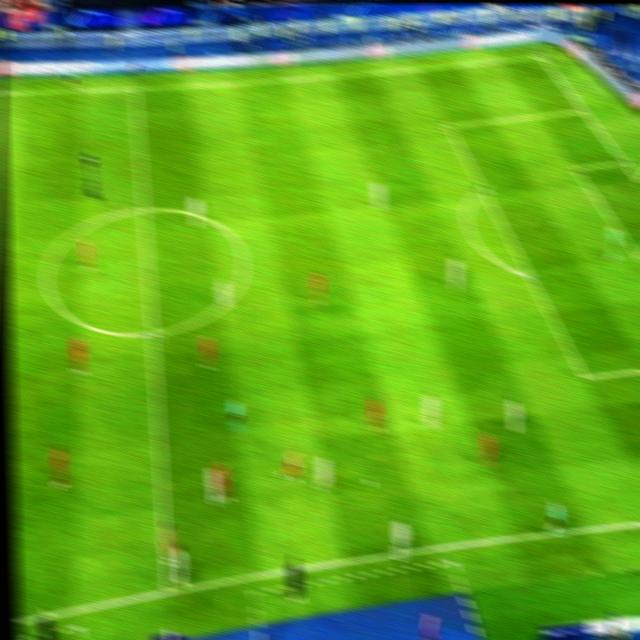bigarea_bottom_inner: (576, 370, 594, 385)
bigarea_top_inner: (440, 119, 458, 132)
bigarea_top_outter: (574, 103, 594, 119)
bottom_arc_area_intersection: (521, 270, 540, 284)
corner: (533, 50, 550, 64)
halfcircle_bottom: (143, 327, 163, 342)
halfcircle_top: (136, 203, 153, 217)
midline_bottom_intersection: (158, 584, 179, 600)
midline_top_intersection: (126, 82, 143, 95)
smallarea_top_inner: (568, 163, 585, 175)
smallarea_top_outter: (617, 157, 634, 170)
top_arc_area_intersection: (474, 182, 492, 195)
